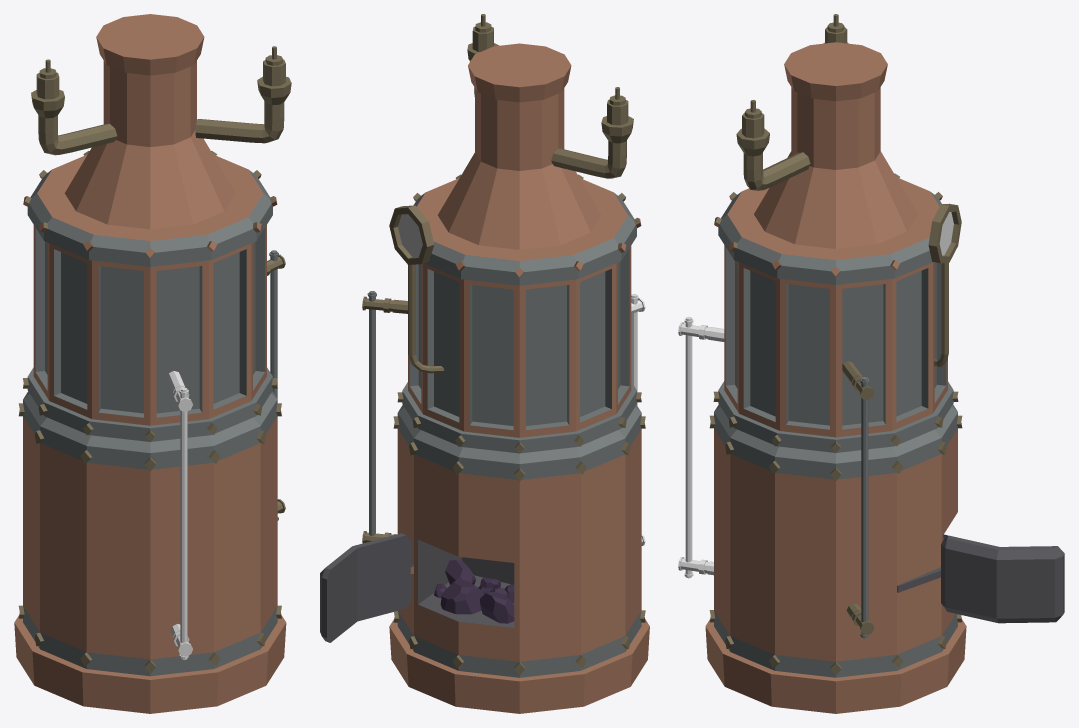
Rendered from caldera_1.fbx.
3 views of the same model, side by side, from view 1: azimuth 30°, elevation 25°; view 2: azimuth 150°, elevation 25°; view 3: azimuth 270°, elevation 25° (orthographic). The views are drawn at different scales.
Parts seen in each view (by area): view 1: Cylinder.002, Cylinder.013, Cylinder.003, Cylinder.012, Cylinder.009, Cylinder.010; view 2: Cylinder.002, Cylinder.006, MotonAevar.001, Cylinder.003, Cylinder.004, Cylinder.009, Cylinder.005, Cylinder.013, Cylinder.012, Cylinder.007; view 3: Cylinder.002, Cylinder.006, Cylinder.013, Cylinder.012, Cylinder.009, Cylinder.004, Cylinder.005.
Part boxes in pixels (x1,y1,x2,y2): Cylinder.002: [14, 14, 286, 713]; Cylinder.013: [195, 46, 291, 143]; Cylinder.003: [31, 59, 117, 155]; Cylinder.012: [179, 387, 188, 659]; Cylinder.009: [269, 250, 278, 520]; Cylinder.010: [167, 371, 192, 411]; Cylinder.002: [389, 43, 649, 713]; Cylinder.006: [320, 533, 412, 642]; MotonAevar.001: [434, 560, 514, 623]; Cylinder.003: [551, 87, 633, 178]; Cylinder.004: [389, 205, 434, 264]; Cylinder.009: [367, 291, 376, 535]; Cylinder.005: [408, 264, 444, 373]; Cylinder.013: [467, 14, 498, 96]; Cylinder.012: [631, 294, 638, 405]; Cylinder.007: [362, 296, 407, 313]; Cylinder.002: [705, 42, 966, 713]; Cylinder.006: [941, 535, 1064, 623]; Cylinder.013: [736, 100, 810, 190]; Cylinder.012: [684, 316, 693, 578]; Cylinder.009: [860, 377, 869, 638]; Cylinder.004: [928, 203, 961, 263]; Cylinder.005: [934, 263, 948, 367].
Size of the model in its own units: 247 by 552 by 324.
